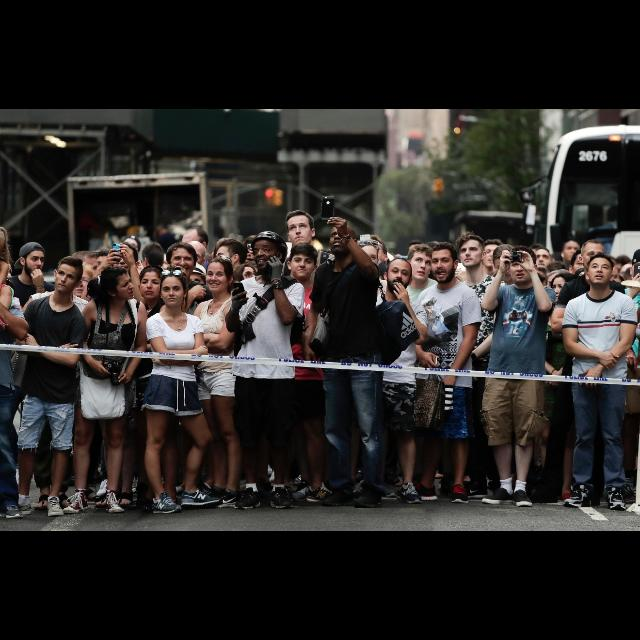head: (430, 244, 460, 286), (99, 267, 135, 301), (204, 256, 236, 294), (287, 243, 319, 281), (159, 268, 189, 308), (254, 233, 286, 270), (406, 244, 436, 282), (456, 234, 488, 268), (384, 258, 414, 294), (138, 264, 166, 302), (509, 248, 538, 284), (53, 260, 83, 294), (578, 239, 606, 273), (329, 224, 358, 256), (19, 243, 46, 277), (53, 262, 83, 290), (586, 256, 614, 286), (0, 271, 12, 296)
person: (300, 194, 422, 506), (223, 230, 307, 512), (0, 255, 88, 521), (60, 265, 150, 517), (547, 236, 631, 504), (558, 250, 640, 512), (477, 242, 557, 510), (14, 260, 94, 514), (144, 264, 223, 516), (412, 240, 484, 506), (358, 256, 428, 508), (270, 242, 334, 514), (381, 242, 447, 503), (447, 231, 508, 503), (0, 241, 58, 518), (190, 255, 250, 510), (121, 264, 180, 510), (0, 251, 40, 521)
